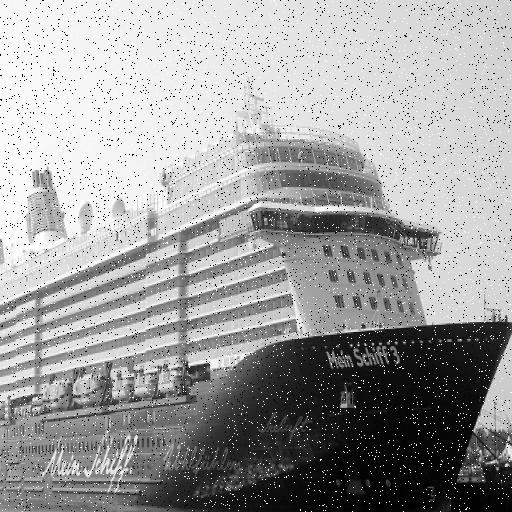cruises: (1, 65, 512, 512)
